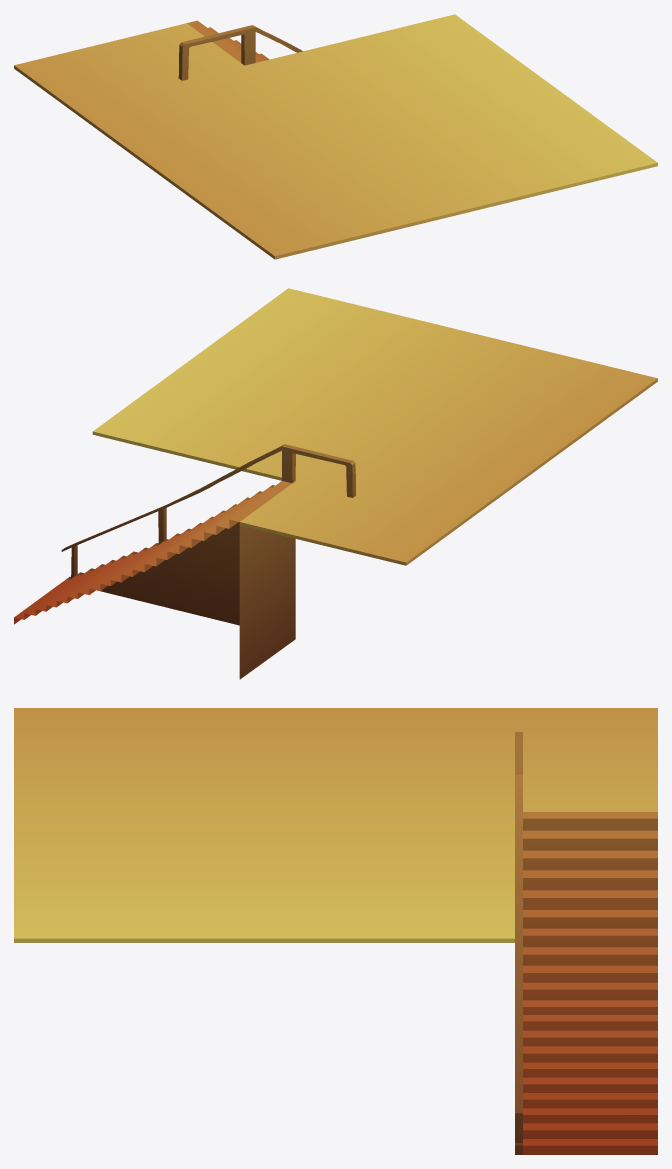
File: SM_SegundoPiso.fbx
3 views of the same model, one above another, from view 1: azimuth 30°, elevation 25°; view 2: azimuth 150°, elevation 25°; view 3: azimuth 270°, elevation 25° (orthographic). The views are drawn at different scales.
Visible parts, largest first — view 1: Segundo piso; view 2: Segundo piso; view 3: Segundo piso.
Boxes of the visible parts, bbox=[...] form: Segundo piso: bbox=[14, 14, 657, 259]; Segundo piso: bbox=[14, 288, 657, 679]; Segundo piso: bbox=[14, 708, 657, 1154].
Size of the model in its own units: 820 by 380 by 900.
